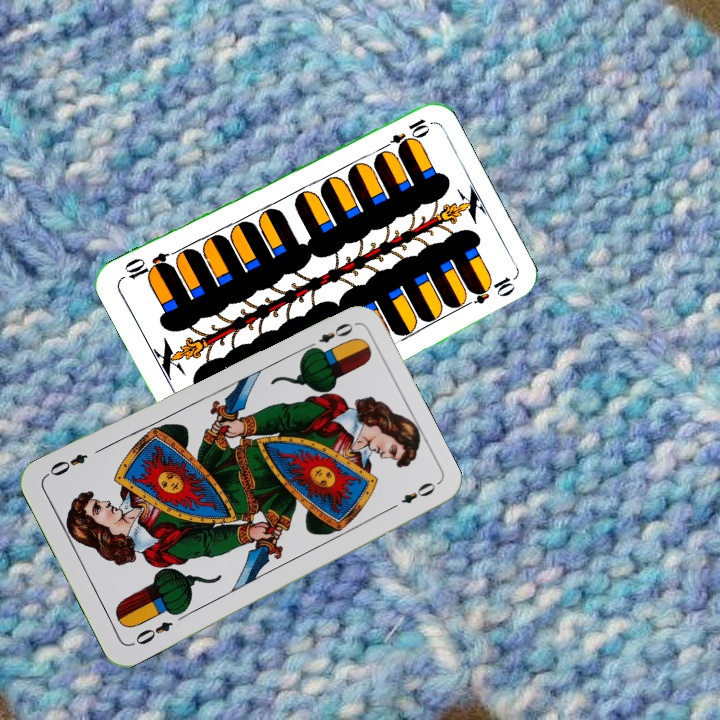E10: (376, 114, 431, 155)
EO: (301, 318, 356, 353), (127, 617, 176, 649)
